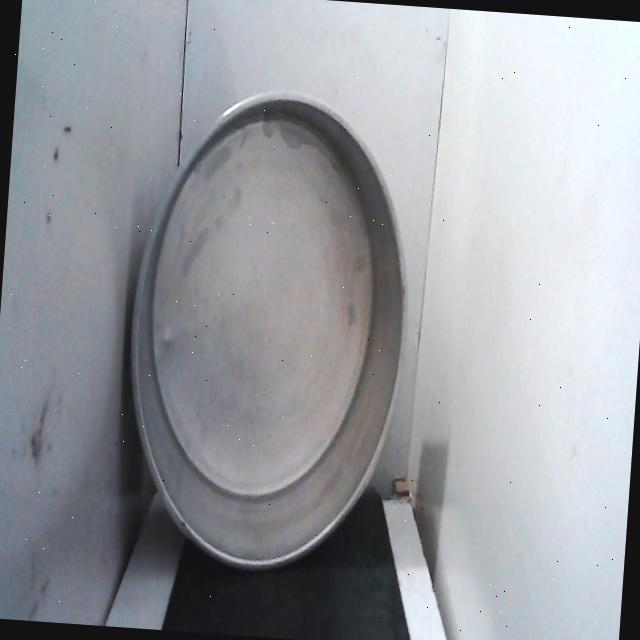metal: (108, 66, 432, 590)
